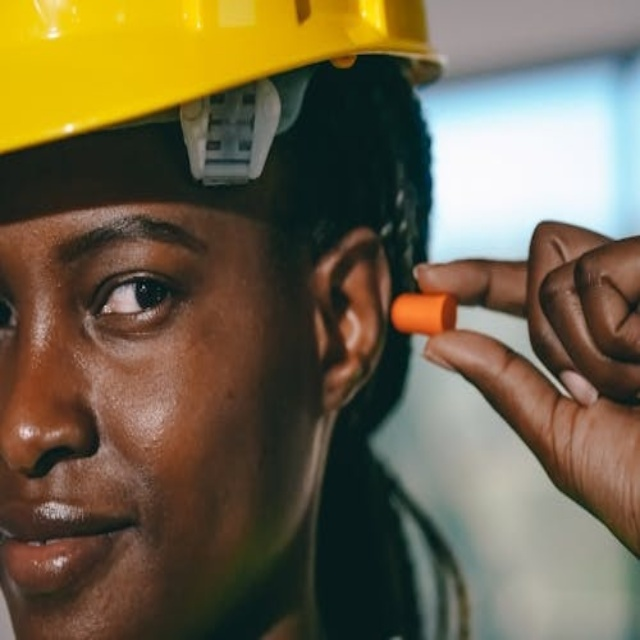Sin_gafas: (1, 220, 238, 360)
Sin_guantes: (410, 219, 637, 590)
Sin_mascara: (0, 483, 184, 635)
